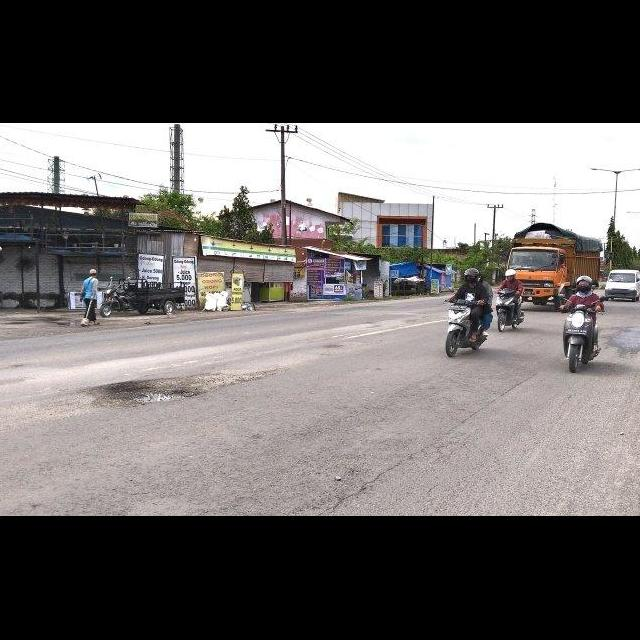lubang_kecil: (95, 370, 209, 423)
